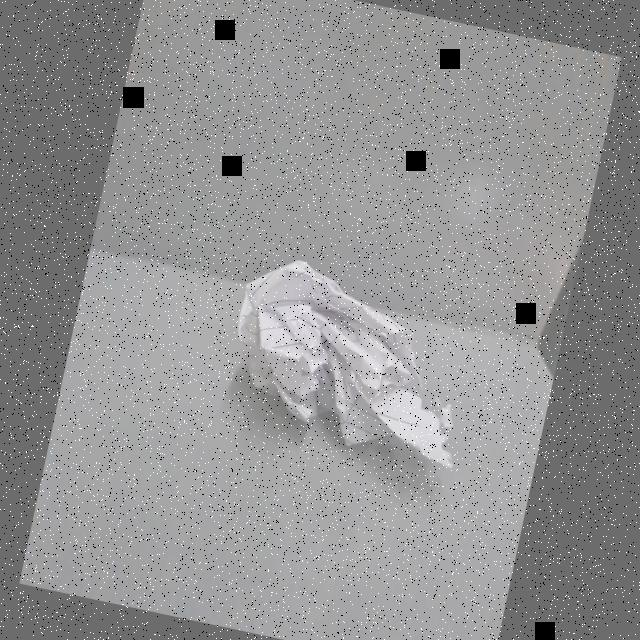scrap_paper: (220, 248, 490, 471)
